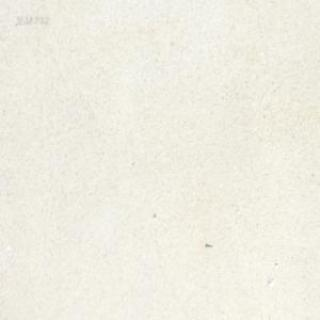Nailtrack_idkeyframe: (204, 242, 211, 247)
